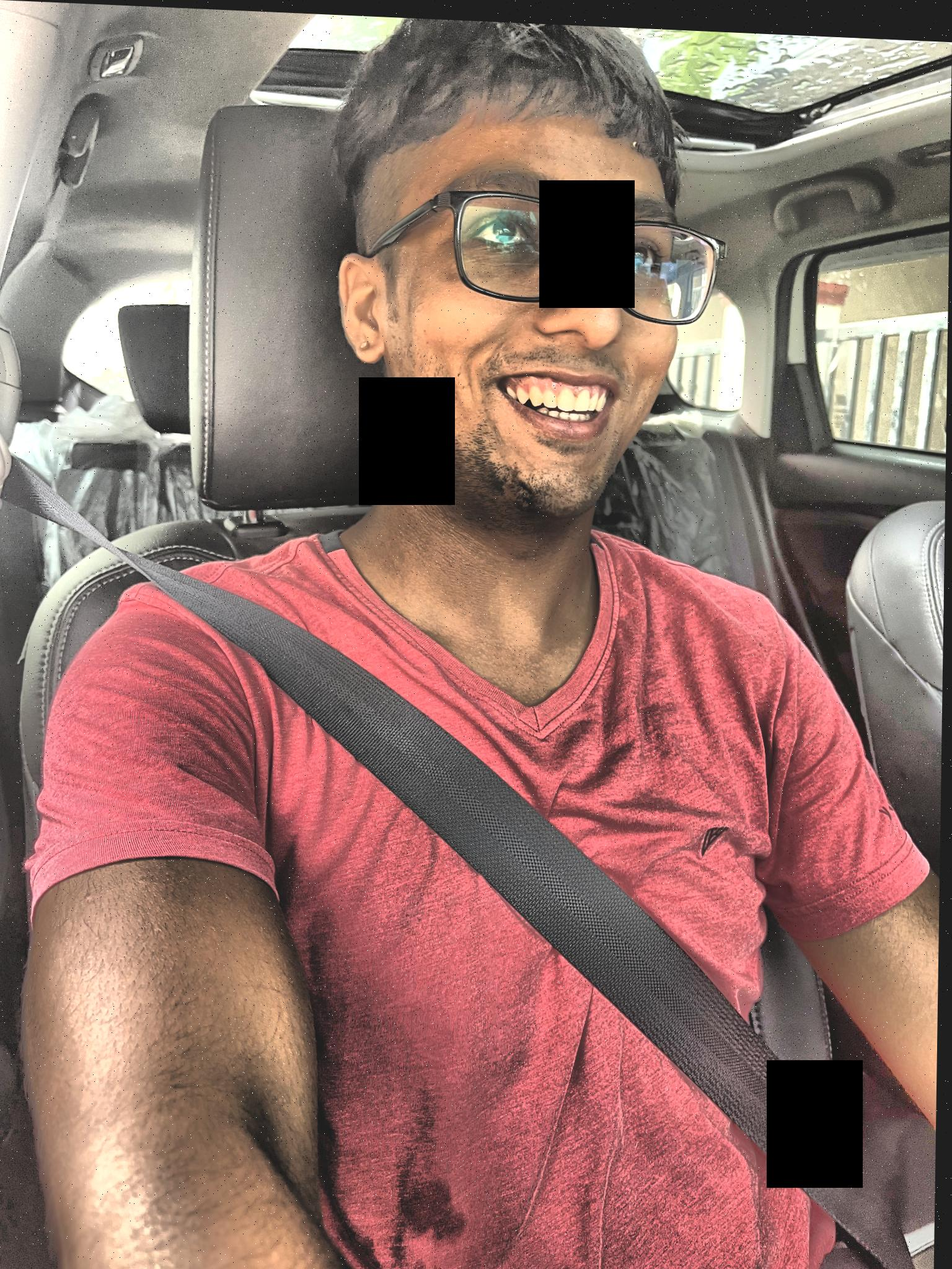seatbelt: (8, 455, 902, 1269)
